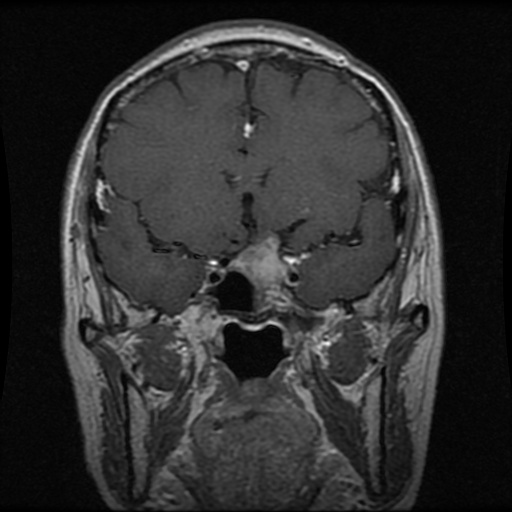pituitary: (227, 235, 291, 308)
